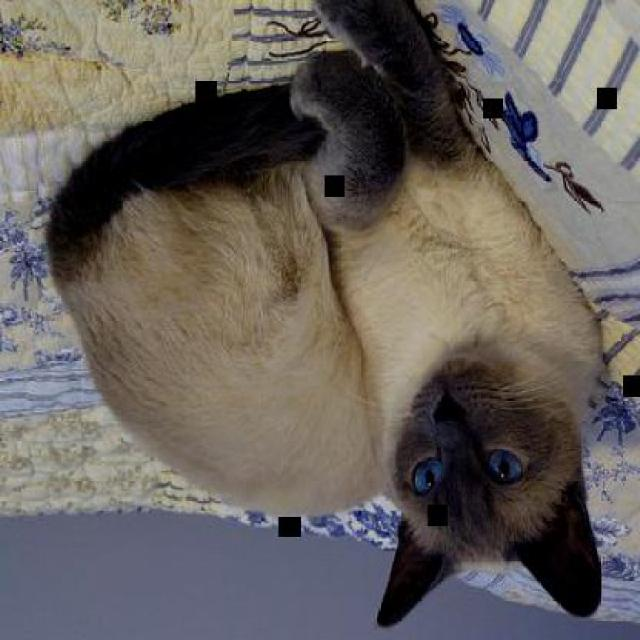cat: (46, 2, 600, 630)
